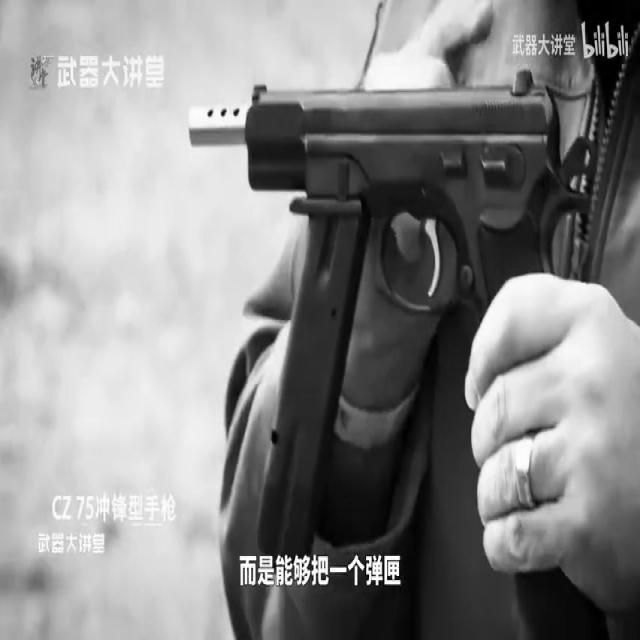Sub-machine-gun: (164, 0, 608, 630)
